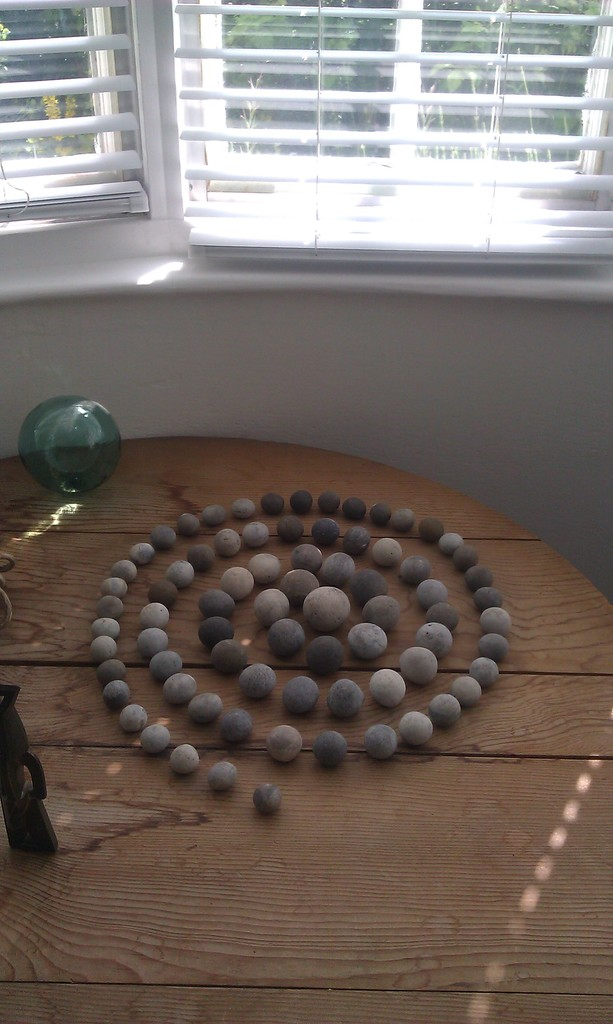Ball: (20, 392, 125, 495), (301, 586, 349, 627), (344, 620, 386, 665), (267, 618, 306, 662), (264, 724, 304, 765), (278, 566, 318, 607), (344, 567, 386, 606), (309, 636, 346, 678), (402, 644, 439, 686), (217, 709, 257, 746), (211, 637, 246, 679), (360, 595, 402, 630), (147, 650, 184, 686), (328, 678, 363, 716), (241, 665, 275, 704), (418, 623, 454, 659), (253, 588, 290, 623), (309, 732, 344, 769), (466, 659, 504, 693), (365, 536, 404, 569), (477, 606, 516, 639), (282, 679, 320, 712), (196, 588, 237, 618), (432, 691, 465, 728), (342, 525, 376, 560), (372, 669, 406, 704), (136, 726, 175, 756), (250, 552, 282, 588), (197, 620, 236, 648), (166, 678, 201, 709), (397, 555, 433, 585), (115, 705, 150, 735), (399, 714, 433, 744), (105, 679, 134, 714), (309, 516, 337, 552), (477, 636, 511, 665), (223, 567, 251, 602), (367, 728, 399, 758), (139, 602, 173, 630), (138, 628, 168, 659), (323, 552, 351, 585), (386, 511, 421, 536), (189, 697, 222, 723), (211, 525, 239, 555), (411, 518, 442, 545), (101, 655, 127, 686), (463, 567, 495, 592), (292, 543, 318, 573), (456, 672, 482, 702), (208, 764, 237, 790), (171, 748, 199, 774), (430, 602, 456, 630), (365, 499, 394, 524), (468, 592, 504, 612), (251, 790, 283, 812), (187, 547, 213, 574), (243, 520, 269, 547), (92, 637, 117, 665), (432, 532, 463, 554), (96, 616, 120, 644), (96, 592, 124, 616), (154, 525, 177, 554), (337, 499, 363, 524), (150, 581, 177, 604), (280, 518, 302, 545), (316, 488, 337, 516), (170, 562, 194, 586), (259, 492, 282, 515), (292, 490, 316, 511), (456, 545, 477, 569), (131, 540, 155, 560), (199, 504, 223, 524), (101, 574, 127, 592), (421, 586, 447, 604), (115, 560, 138, 580), (177, 511, 197, 532), (234, 502, 260, 516)
